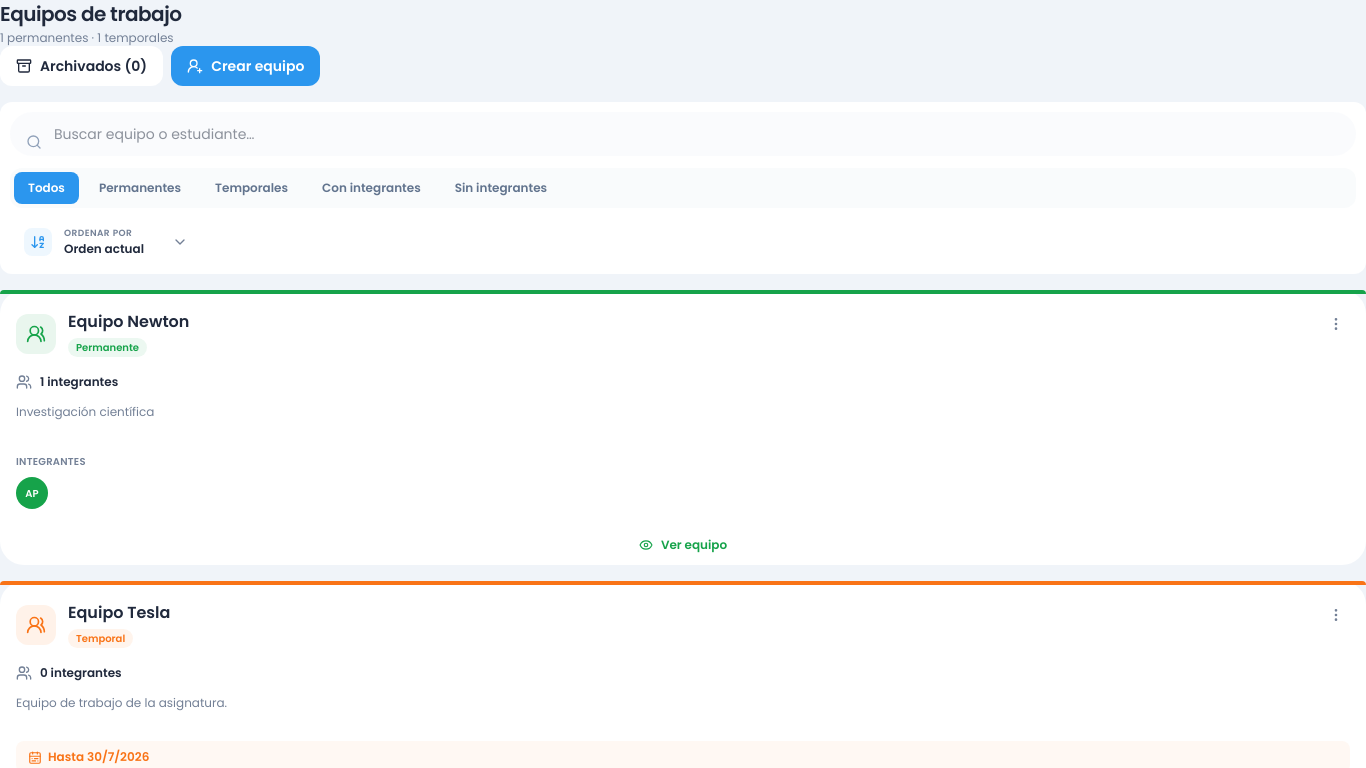
Test: panel de equipos del curso › abre la misma vista subordinada desde la tarjeta y conserva solo las pestañas del equipo
Click the heading "Equipo Newton". click: coordinates (129, 322)
box: [68, 310, 189, 334]
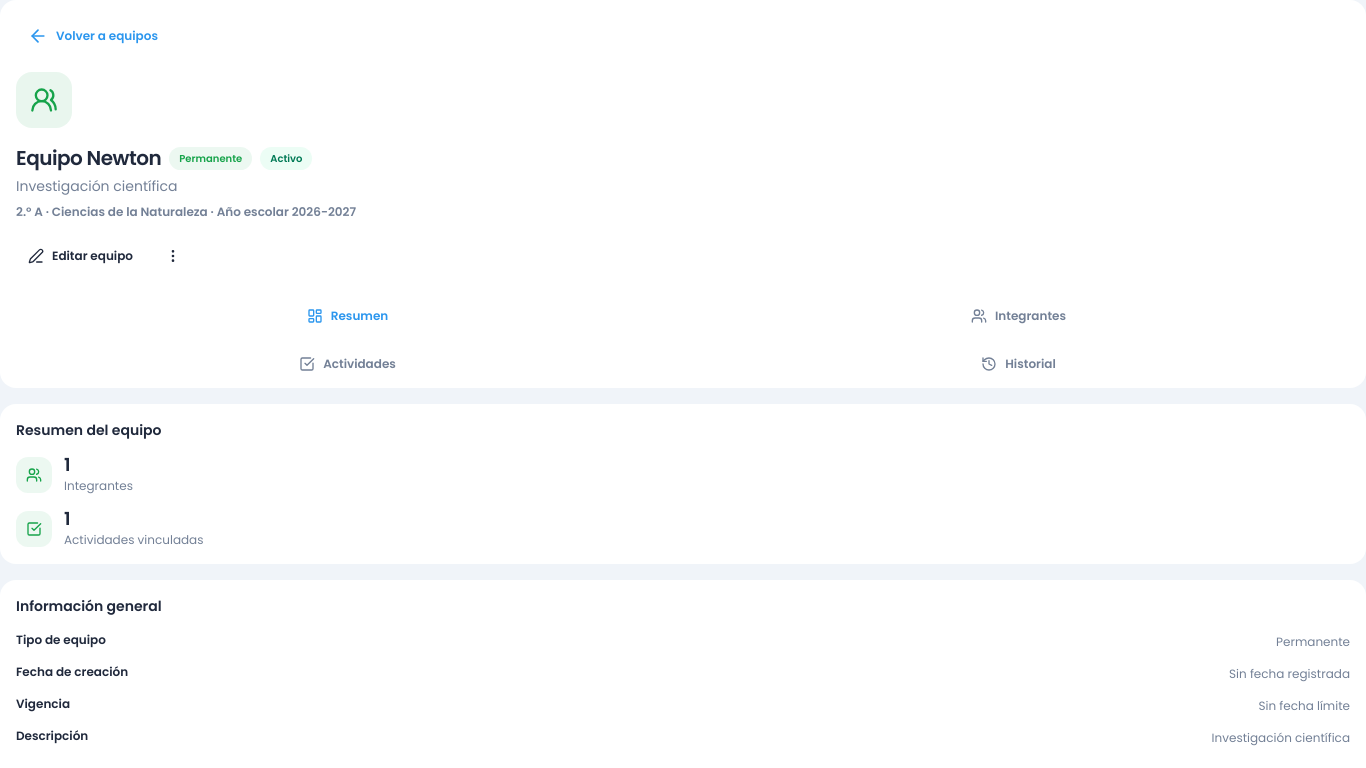
Check: the heading "Equipo Newton" is shown, box [16, 144, 161, 172]
Check: the text "2.º A · Ciencias de la Naturaleza · Año escolar 2026-2027" is shown, box [16, 203, 356, 220]
Check: the button "Resumen" is shown, box [12, 292, 683, 340]
Click the button "Volver a equipos". click: coordinates (93, 36)
box: [16, 16, 170, 56]
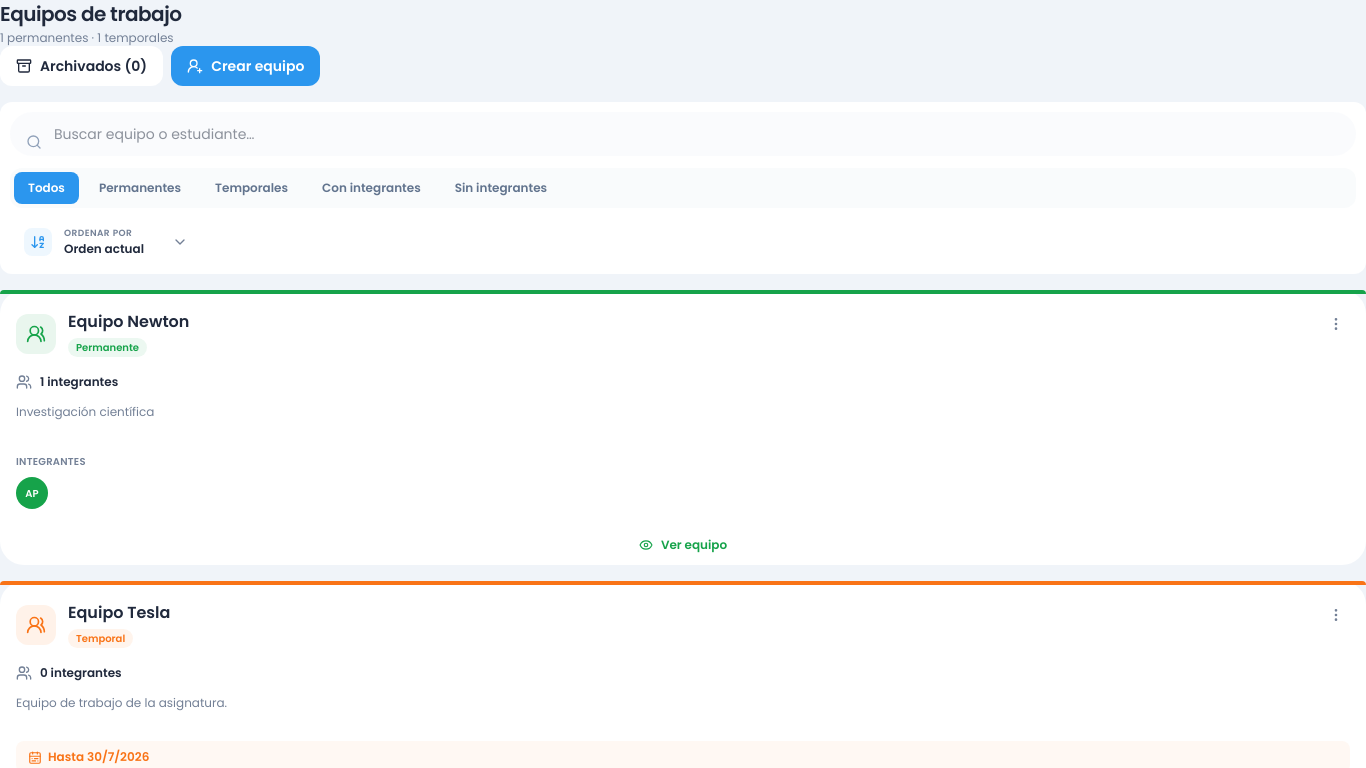
Check: the number of buttons "Ver equipo" is 2
